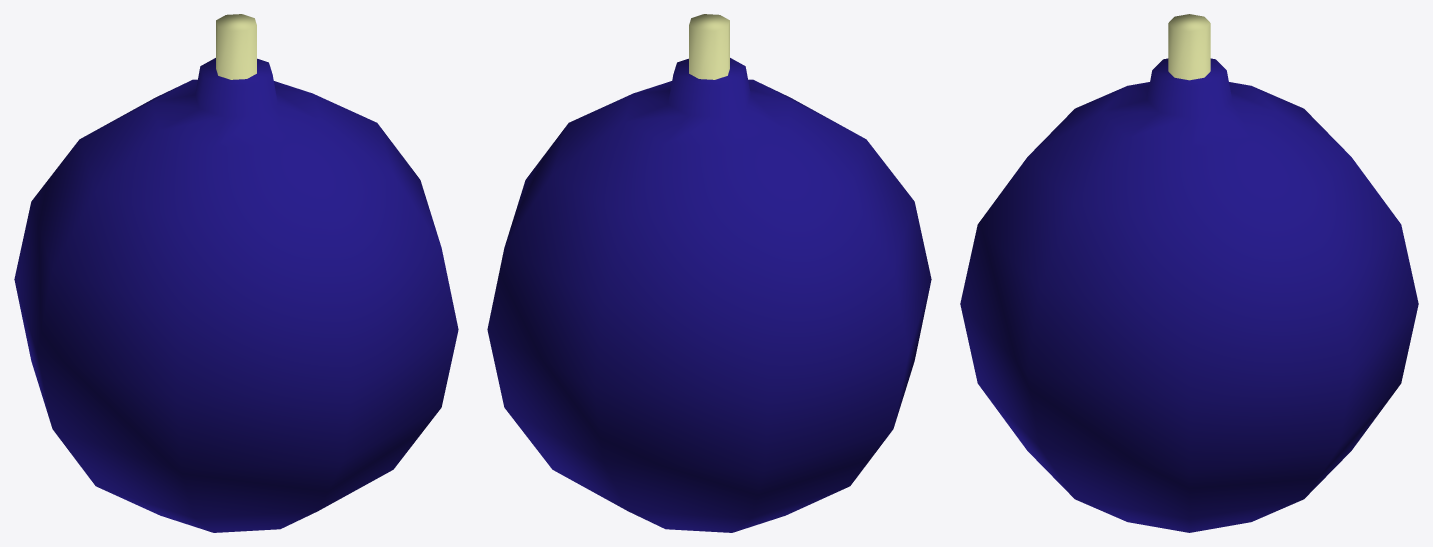
File: Bomb.fbx
3 views of the same model, side by side, from view 1: azimuth 30°, elevation 25°; view 2: azimuth 150°, elevation 25°; view 3: azimuth 270°, elevation 25° (orthographic).
Parts seen in each view (by area): view 1: Sphere; view 2: Sphere; view 3: Sphere.
Part boxes in pixels (<box>): Sphere: <box>14,14,458,532</box>; Sphere: <box>487,14,931,532</box>; Sphere: <box>960,14,1418,532</box>.
Size of the model in its own units: 200 by 235 by 200.
